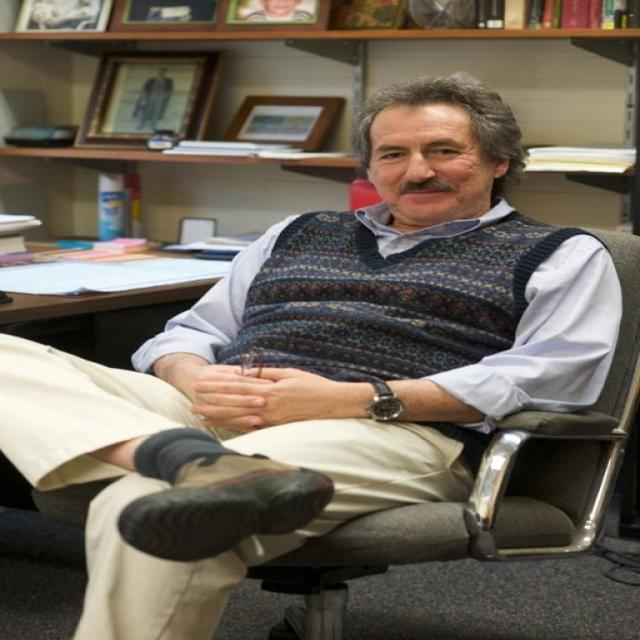idoso sentado: (6, 49, 635, 640)
